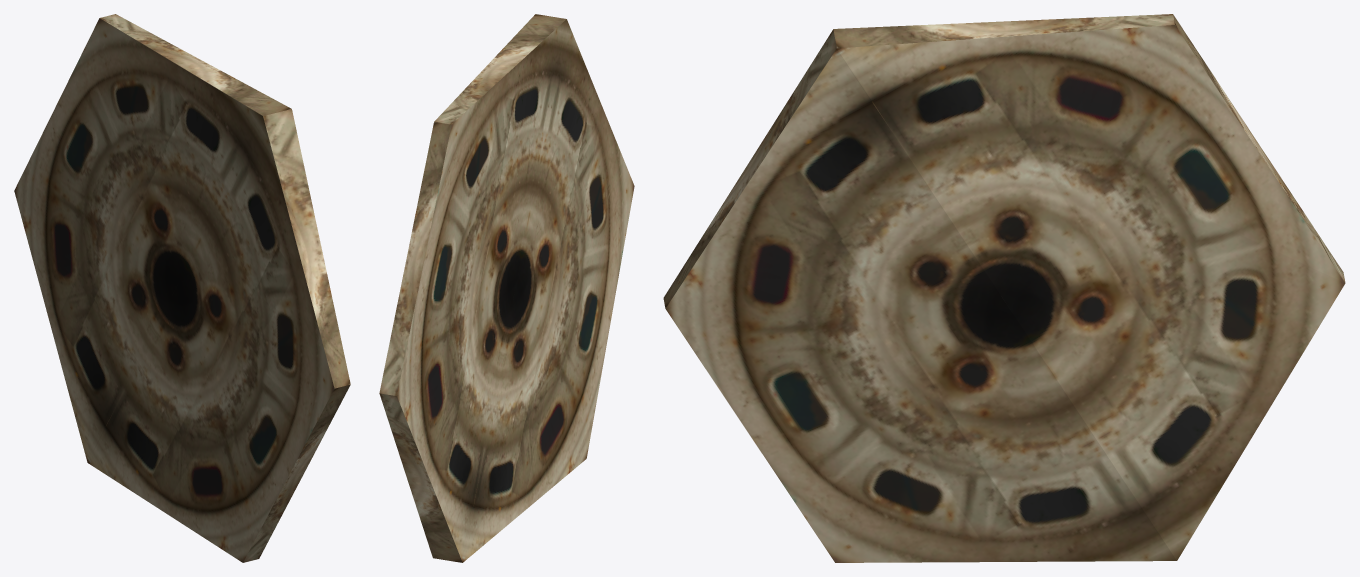
Rendered from drat shield.fbx.
3 views of the same model, side by side, from view 1: azimuth 30°, elevation 25°; view 2: azimuth 150°, elevation 25°; view 3: azimuth 270°, elevation 25° (orthographic). The views are drawn at different scales.
Visible parts, largest first — view 1: ratshield; view 2: ratshield; view 3: ratshield.
Part boxes in pixels (<box>): ratshield: <box>14,14,350,562</box>; ratshield: <box>379,14,634,562</box>; ratshield: <box>663,14,1345,562</box>.
Bounding box in the file's own units: 8.84 × 54.72 × 62.97.
